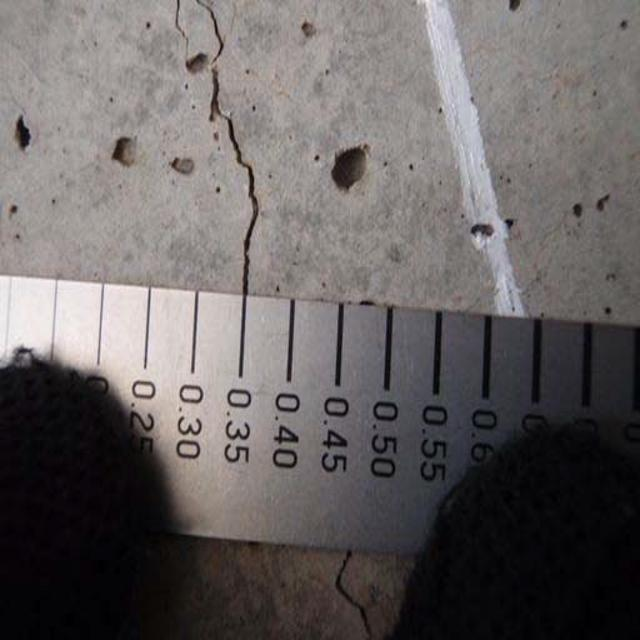crack: (180, 4, 270, 290), (324, 560, 379, 639)
